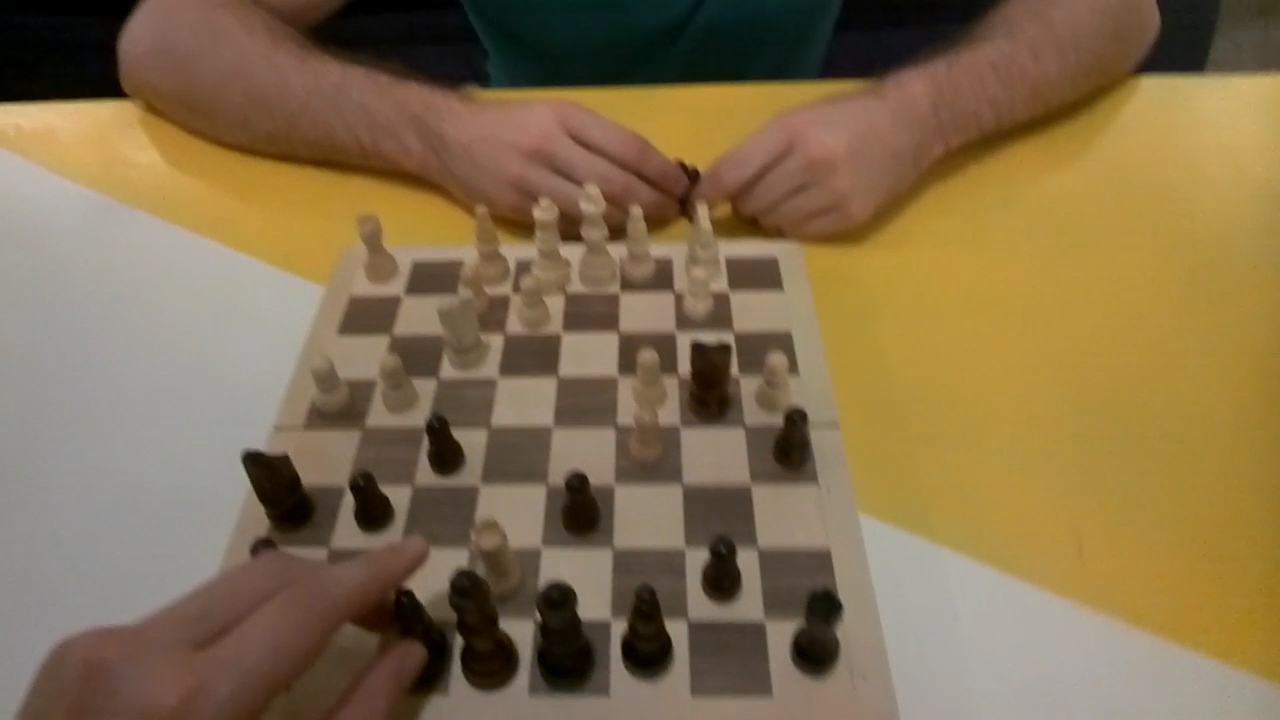hand: (18, 536, 423, 716), (436, 94, 685, 232), (688, 90, 918, 237)
